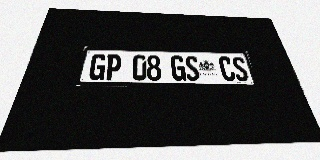0: (132, 55, 147, 81)
8: (147, 55, 162, 81)
C: (218, 57, 236, 81)
G: (88, 54, 107, 80), (170, 56, 186, 81)
P: (104, 54, 122, 80)
S: (230, 57, 250, 81), (184, 56, 201, 81)
